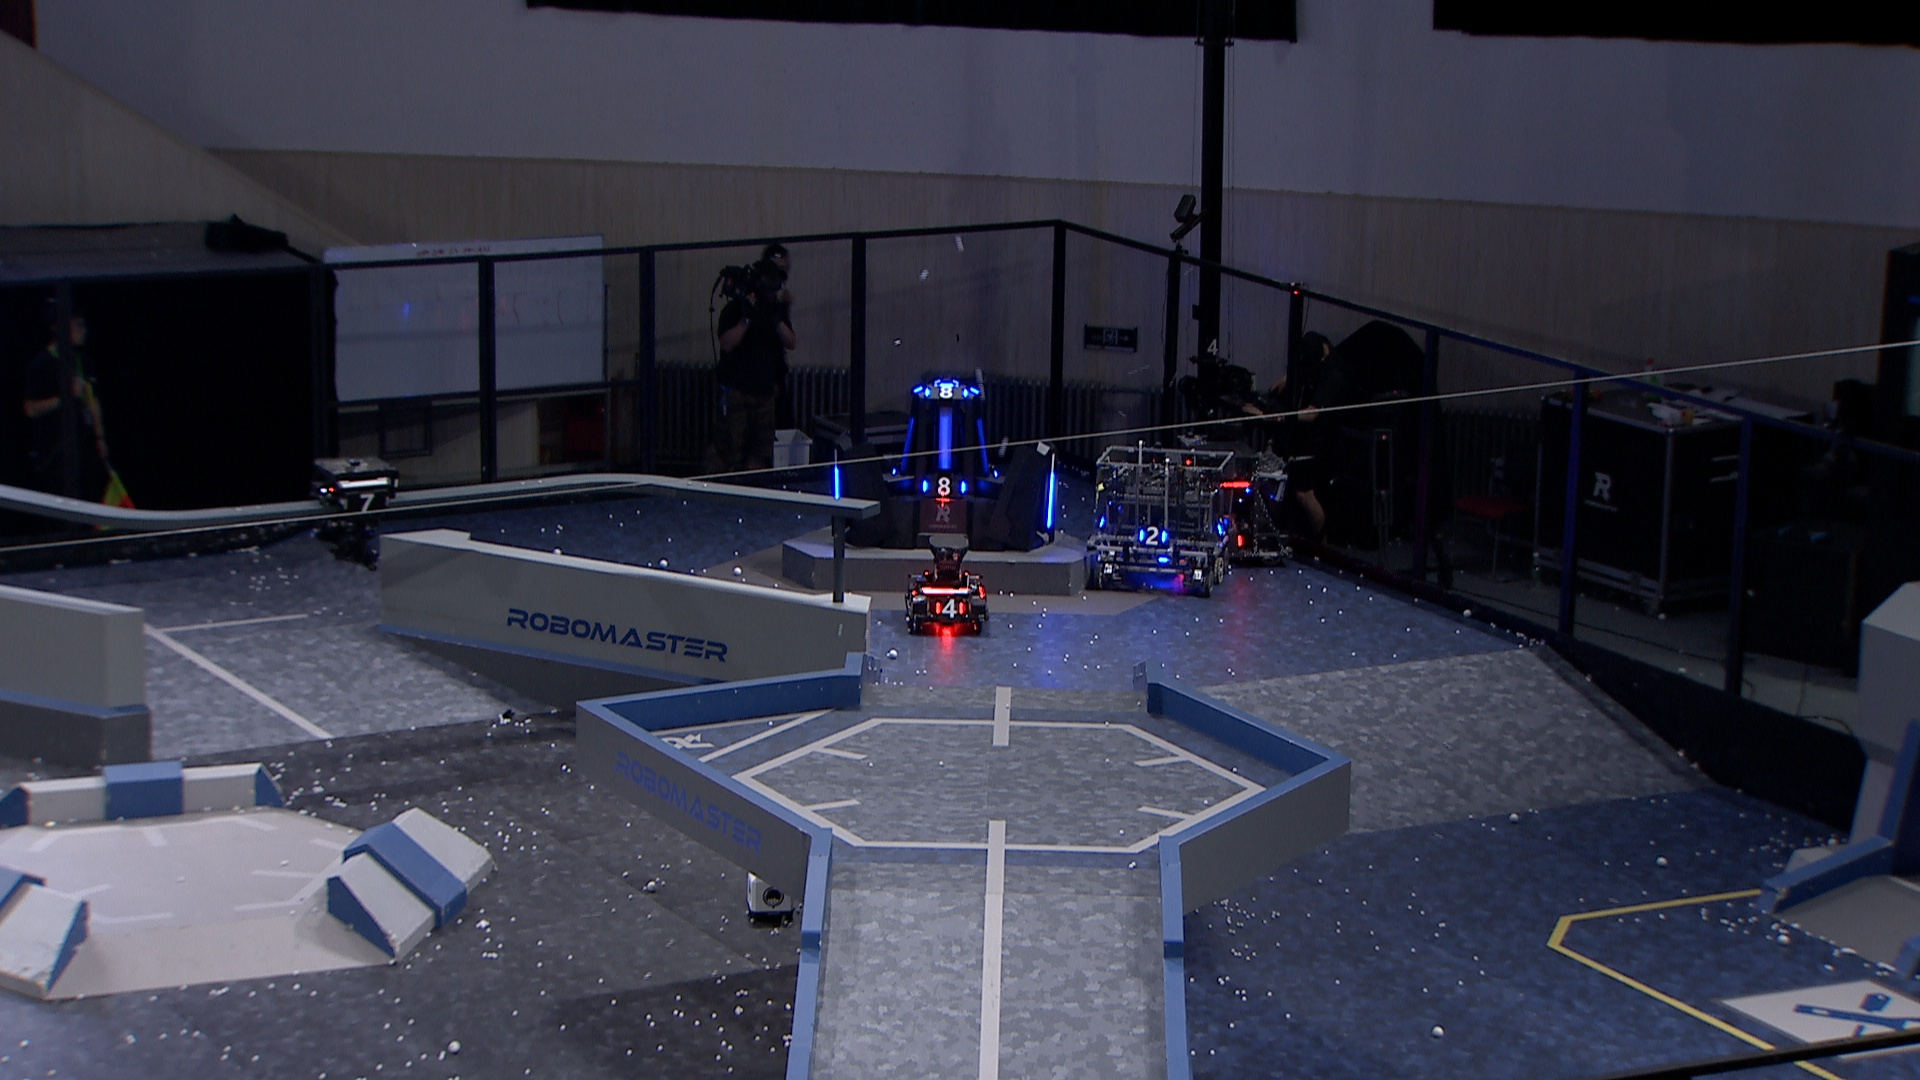armor: (339, 493, 392, 516), (938, 411, 956, 472), (920, 476, 969, 498), (923, 382, 969, 404), (899, 417, 916, 473), (934, 597, 969, 621), (1044, 469, 1058, 531), (977, 418, 992, 473), (1138, 524, 1168, 549), (832, 465, 844, 501), (1215, 517, 1233, 538)
base: (831, 378, 1059, 555)
car: (1087, 442, 1238, 595), (1168, 434, 1298, 570), (903, 531, 989, 636)
watcher: (309, 455, 401, 571)
